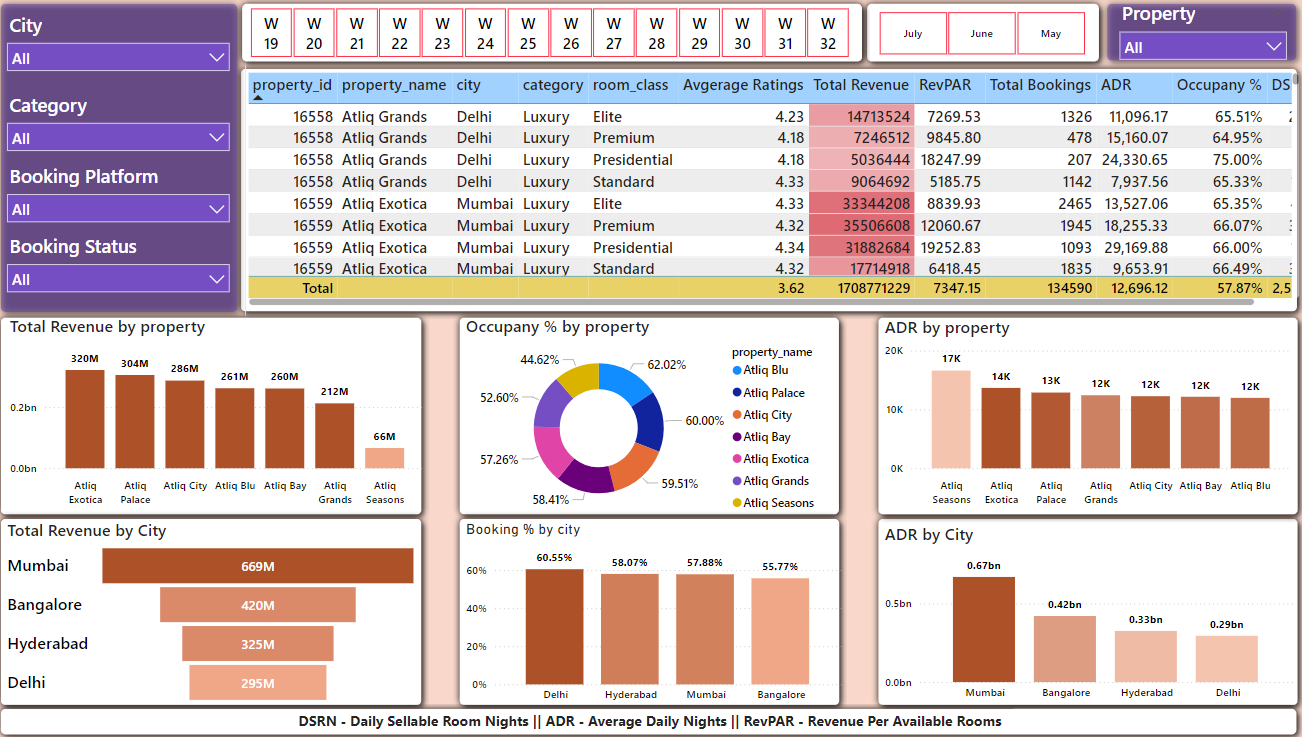

What the dashboard file says about the page in this screenshot:
{"tool":"powerbi","page":{"name":"Property Based Performance","canvas":[1500,853],"ordinal":1},"visuals":[{"type":"shape","box":[274.4,73.8,1225.5,295.2],"z":0},{"type":"shape","box":[0,0,288.3,370.5],"z":1000},{"type":"pageNavigator","box":[11.4,742.9,307.1,60],"z":2000},{"type":"shape","box":[1003,589.4,497.4,230.8],"z":3000},{"type":"shape","box":[990.7,0,283,83.8],"z":4000},{"type":"tableEx","fields":{"Values":["dim_hotels.property_id","dim_hotels.property_name","dim_hotels.city","dim_hotels.category","dim_rooms.room_class","fact_booking.Avgerage Ratings","fact_booking.Total Revenue","fact_aggregated_bookings.RevPAR","fact_booking.Total Bookings","dim_date.ADR","fact_aggregated_bookings.Occupany %","dim_rooms.DSRN"]},"box":[285.8,82.4,1213.2,276.2],"z":5000},{"type":"shape","box":[1003.4,358.8,497.4,243],"z":6000},{"type":"shape","box":[524.6,358.8,451.7,243],"z":7000},{"type":"slicer","fields":{"Values":["dim_date.Month Name"]},"box":[987.9,11,284.4,61.8],"z":8000},{"type":"slicer","fields":{"Values":["dim_hotels.city"]},"box":[5.5,12.4,274.8,87.9],"z":9000},{"type":"columnChart","title":"ADR by property ","fields":{"Y":["dim_date.ADR"],"Category":["dim_hotels.property_name"]},"box":[1015.4,365.5,474,225.3],"z":10000},{"type":"columnChart","title":"ADR by City","fields":{"Y":["fact_booking.Total Revenue"],"Category":["dim_hotels.city"]},"box":[1015.4,601.8,476.8,213],"z":11000},{"type":"donutChart","title":"Occupany % by property ","fields":{"Category":["dim_hotels.property_name"],"Y":["fact_aggregated_bookings.Occupany %"]},"box":[535.9,364.1,428.7,235],"z":12000},{"type":"shape","box":[0,358.8,498.8,243],"z":13000},{"type":"shape","box":[0,589.4,498.8,230.8],"z":14000},{"type":"columnChart","title":"Total Revenue by property","fields":{"Category":["dim_hotels.property_name"],"Y":["fact_booking.Total Revenue"]},"box":[13.7,364.1,485,226.7],"z":15000},{"type":"shape","box":[276.2,0,726.8,83.8],"z":16000},{"type":"slicer","fields":{"Values":["dim_date.week no"]},"box":[269.3,6.9,733.7,67.3],"z":17000},{"type":"shape","box":[524.9,589.4,452,230.8],"z":18000},{"type":"funnel","title":"Total Revenue by City","fields":{"Y":["fact_booking.Total Revenue"],"Category":["dim_hotels.city"]},"box":[11,597.7,479.5,217.1],"z":19000},{"type":"slicer","fields":{"Values":["dim_hotels.category"]},"box":[5.5,104.4,274.8,83.8],"z":20000},{"type":"slicer","fields":{"Values":["fact_booking.booking_platform"]},"box":[5.5,185.5,274.8,79.7],"z":21000},{"type":"slicer","fields":{"Values":["fact_booking.booking_status"]},"box":[5.5,265.2,274.8,87.9],"z":22000},{"type":"clusteredColumnChart","fields":{"Y":["fact_aggregated_bookings.Booking %"],"Category":["dim_hotels.city"]},"box":[535.9,599.1,439.7,218.5],"z":23000},{"type":"shape","box":[0,805.8,1499.3,47.2],"z":24000},{"type":"textbox","box":[335.9,811.8,830.4,38.6],"z":25000},{"type":"shape","box":[1264.9,0,234.4,82.9],"z":26000},{"type":"slicer","fields":{"Values":["dim_hotels.property_name"]},"box":[1277.8,0,211.5,72.9],"z":27000}]}

Visuals, with their boxes in screenshot pixels (x1, y1, x2, y2), scaled from the page's 1500x853 canvas onto the 1302x737 screenshot:
shape: x1=238 y1=64 x2=1301 y2=319
shape: x1=0 y1=0 x2=250 y2=320
pageNavigator: x1=10 y1=642 x2=276 y2=694
shape: x1=871 y1=509 x2=1301 y2=709
shape: x1=860 y1=0 x2=1106 y2=72
tableEx - dim_hotels.property_id x dim_hotels.property_name: x1=248 y1=71 x2=1301 y2=310
shape: x1=871 y1=310 x2=1301 y2=520
shape: x1=455 y1=310 x2=847 y2=520
slicer - dim_date.Month Name: x1=857 y1=10 x2=1104 y2=63
slicer - dim_hotels.city: x1=5 y1=11 x2=243 y2=87
"ADR by property " columnChart: x1=881 y1=316 x2=1293 y2=510
"ADR by City" columnChart: x1=881 y1=520 x2=1295 y2=704
"Occupany % by property " donutChart: x1=465 y1=315 x2=837 y2=518
shape: x1=0 y1=310 x2=433 y2=520
shape: x1=0 y1=509 x2=433 y2=709
"Total Revenue by property" columnChart: x1=12 y1=315 x2=433 y2=510
shape: x1=240 y1=0 x2=871 y2=72
slicer - dim_date.week no: x1=234 y1=6 x2=871 y2=64
shape: x1=456 y1=509 x2=848 y2=709
"Total Revenue by City" funnel: x1=10 y1=516 x2=426 y2=704
slicer - dim_hotels.category: x1=5 y1=90 x2=243 y2=163
slicer - fact_booking.booking_platform: x1=5 y1=160 x2=243 y2=229
slicer - fact_booking.booking_status: x1=5 y1=229 x2=243 y2=305
clusteredColumnChart - fact_aggregated_bookings.Booking % x dim_hotels.city: x1=465 y1=518 x2=847 y2=706
shape: x1=0 y1=696 x2=1301 y2=736
textbox: x1=292 y1=701 x2=1012 y2=735
shape: x1=1098 y1=0 x2=1301 y2=72
slicer - dim_hotels.property_name: x1=1109 y1=0 x2=1293 y2=63
